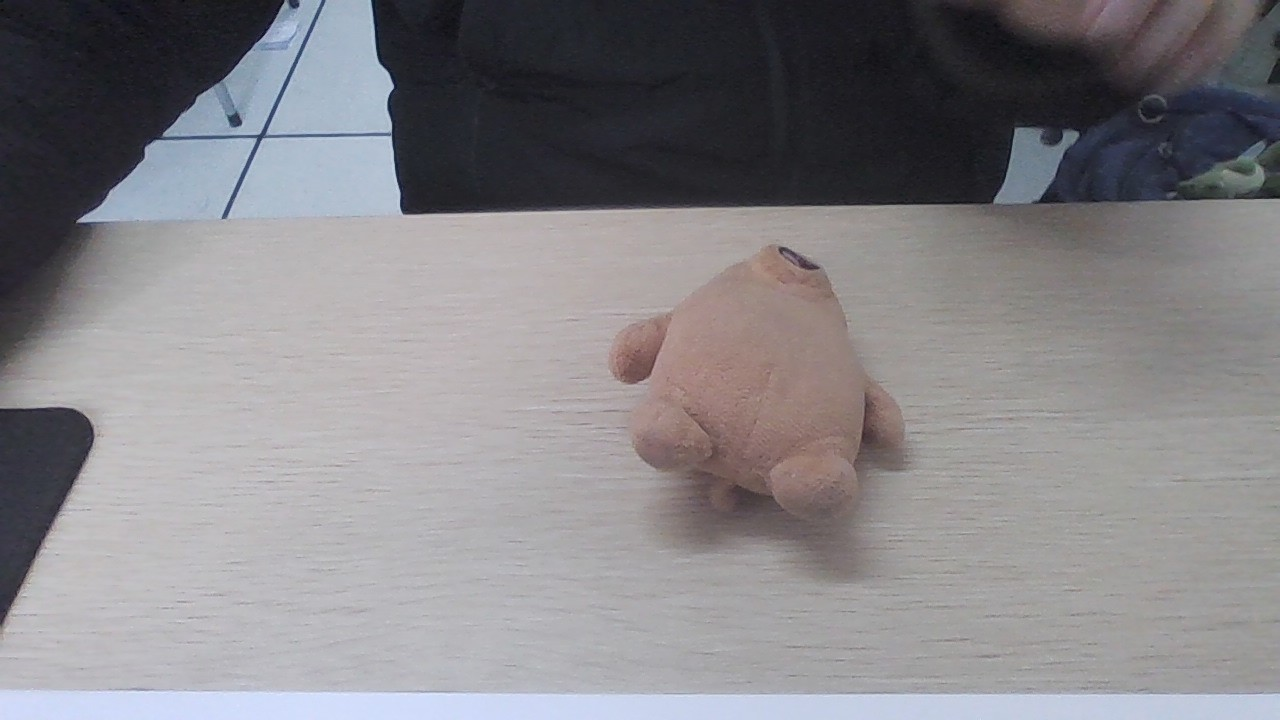KHS-doll: (644, 251, 891, 504)
